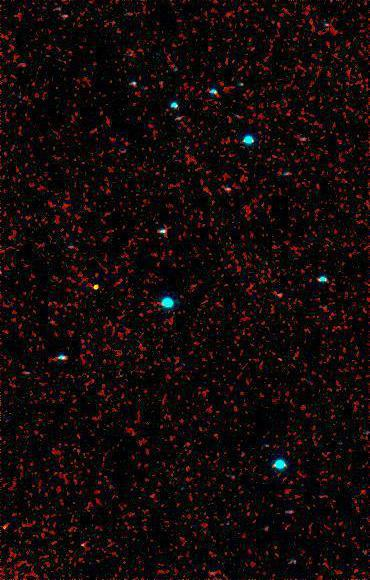star: (78, 272, 108, 302)
